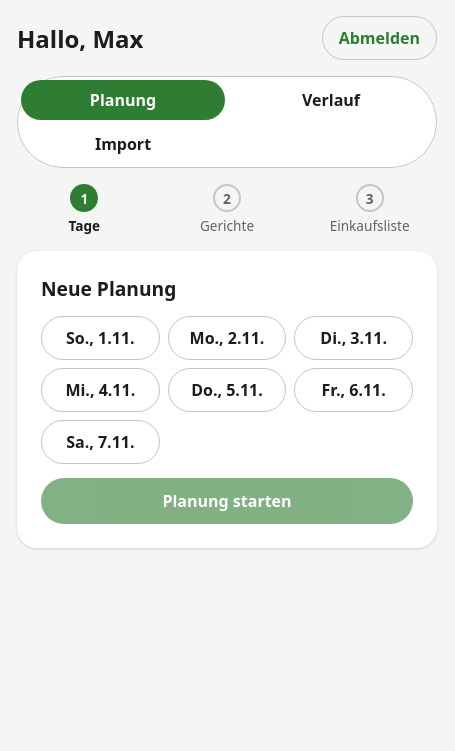
Test case: a command's answer shows at once (witness r3) › shows a started plan before the reload is in
What coordinates should you click on to do the following:
click the button "Mo., 2.11."
I would click on:
 (227, 338)
Its box is left=168, top=316, right=286, bottom=360.
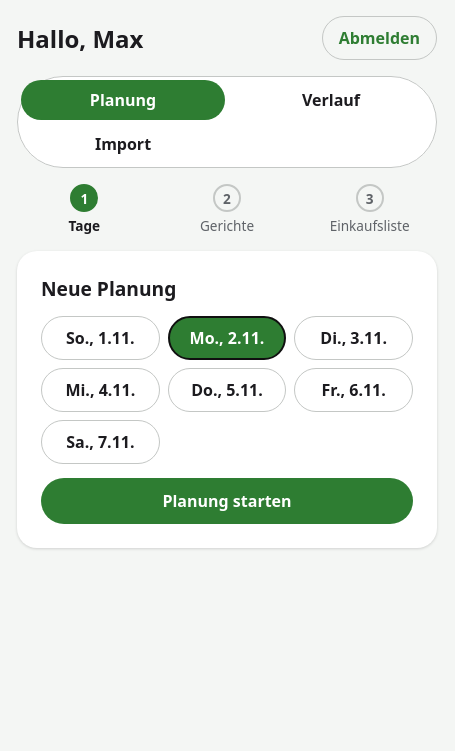
What coordinates should you click on to do the following:
click the button "Di., 3.11."
I would click on:
 (354, 338)
Its box is left=294, top=316, right=413, bottom=360.
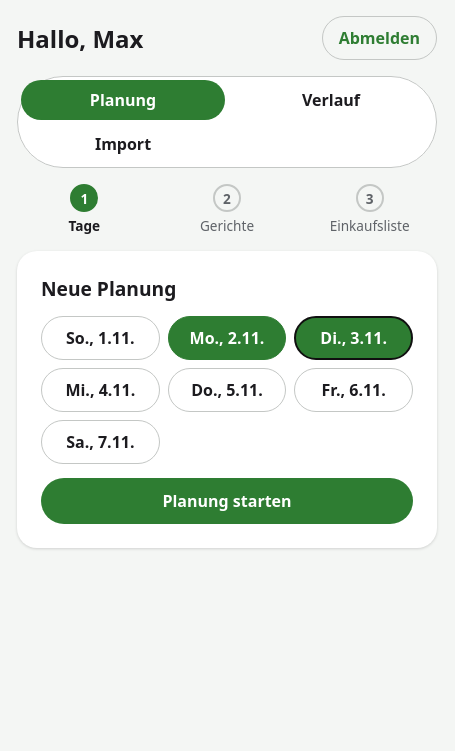
What coordinates should you click on to do the following:
click the button "Planung starten"
I would click on:
 (227, 501)
Its box is left=41, top=478, right=413, bottom=524.
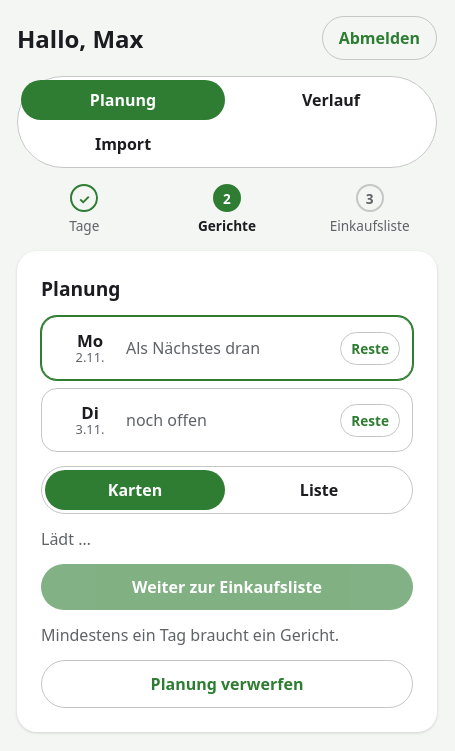
Now the list named "Tage der Planung" is shown, box left=41, top=316, right=413, bottom=452
